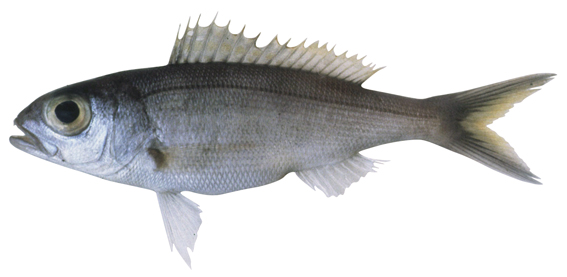fish: (9, 10, 559, 271)
